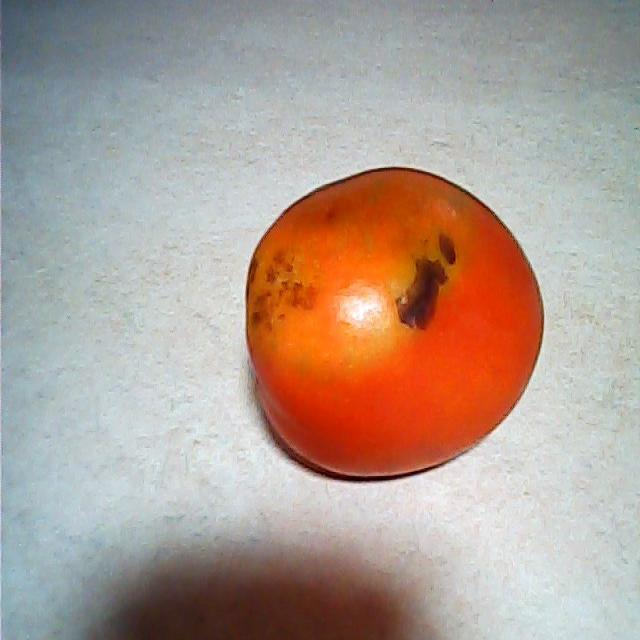defectuoso: (242, 161, 546, 484)
